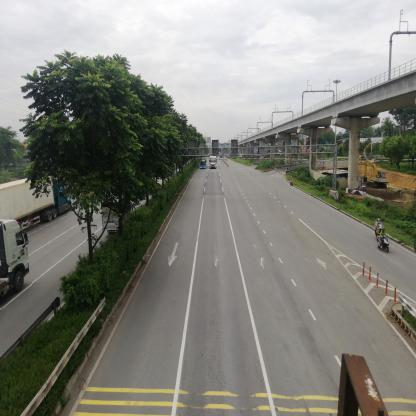bus: (201, 161, 206, 171)
container: (1, 174, 68, 226), (2, 218, 33, 310)
motorbike: (379, 230, 390, 252), (373, 219, 386, 235)
truck: (211, 156, 218, 169)
